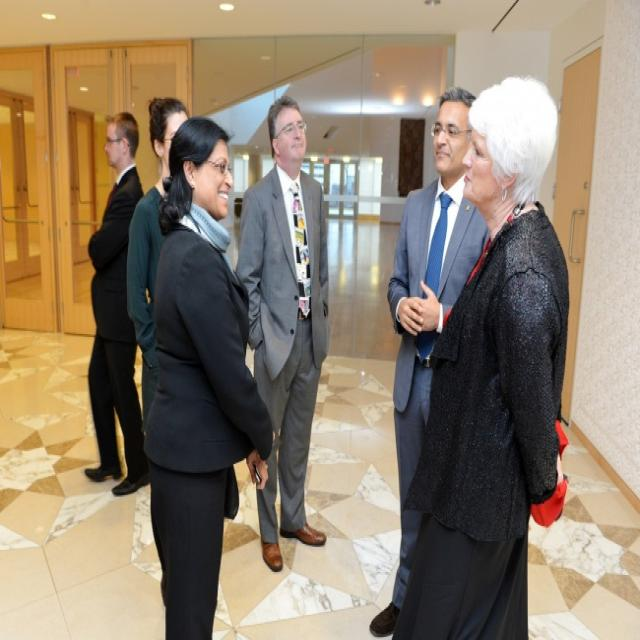body: (390, 72, 571, 640), (366, 81, 492, 640), (146, 116, 272, 638), (226, 91, 338, 574), (76, 108, 156, 495), (125, 94, 190, 434)
